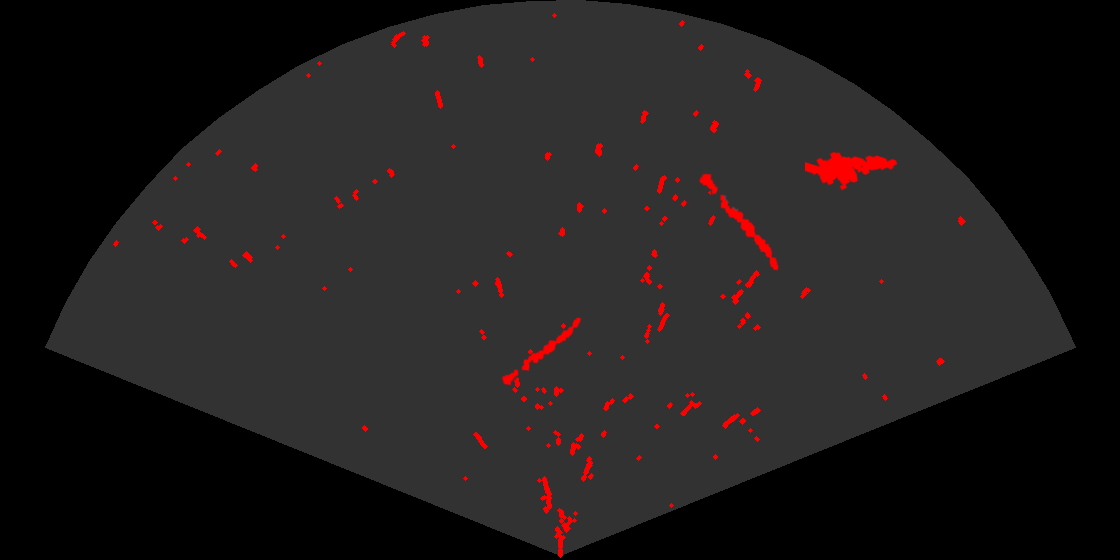chain: (697, 172, 780, 272), (500, 316, 583, 387)
frogman: (805, 150, 899, 192)
